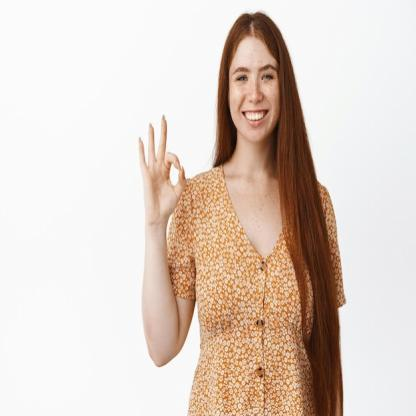ok: (136, 111, 188, 228)
